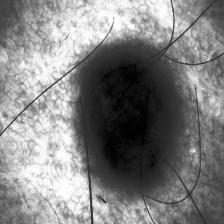Benign Marking or Mole: (84, 54, 174, 184)
